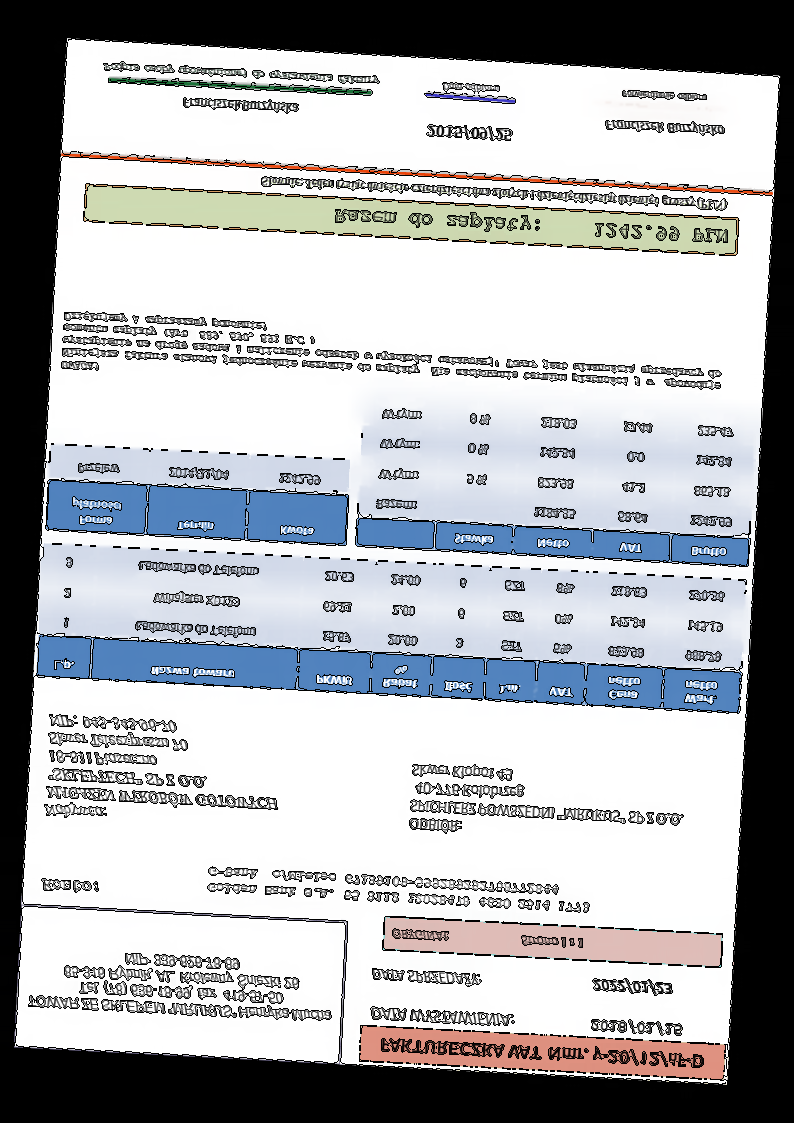Table: (35, 542, 747, 714), (354, 394, 758, 568), (44, 442, 350, 548)
TextBox: (58, 309, 725, 406), (42, 712, 284, 830), (25, 945, 336, 1027), (407, 761, 686, 848), (206, 863, 593, 915), (260, 174, 728, 213), (332, 204, 729, 248), (377, 1034, 705, 1073), (102, 59, 380, 88), (389, 925, 586, 952), (368, 1005, 517, 1031), (603, 116, 726, 138), (369, 966, 484, 989), (180, 95, 299, 116), (589, 1015, 683, 1037), (425, 123, 513, 144), (590, 977, 676, 997), (619, 88, 708, 104), (39, 876, 100, 897), (440, 79, 501, 96)
